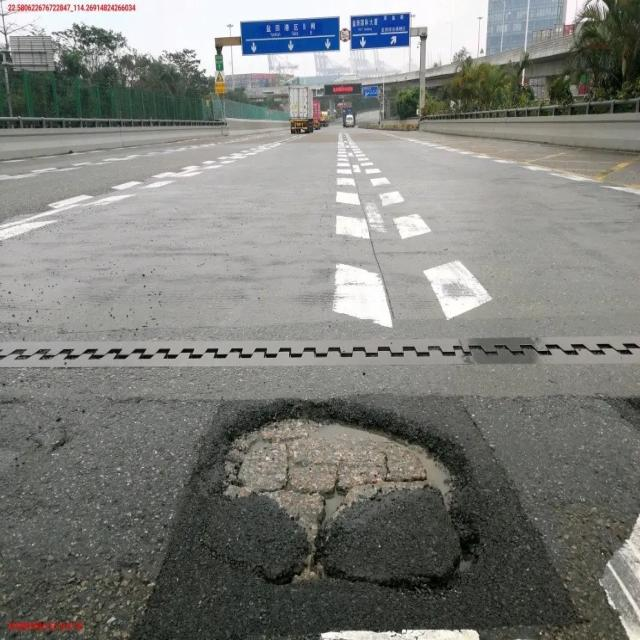Pothole: (211, 405, 484, 587)
